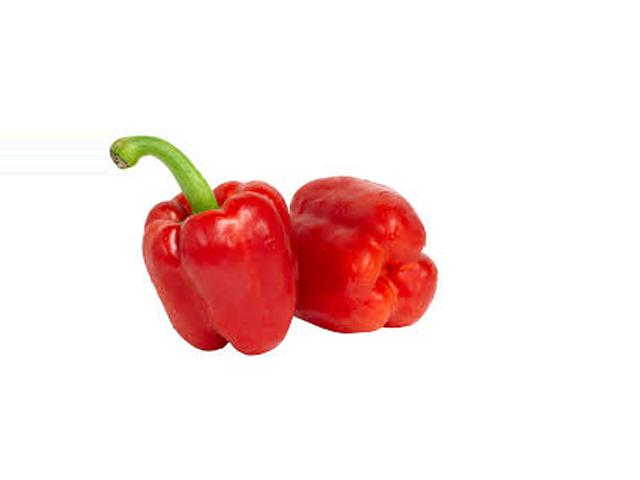bell_pepper: (288, 166, 435, 341)
